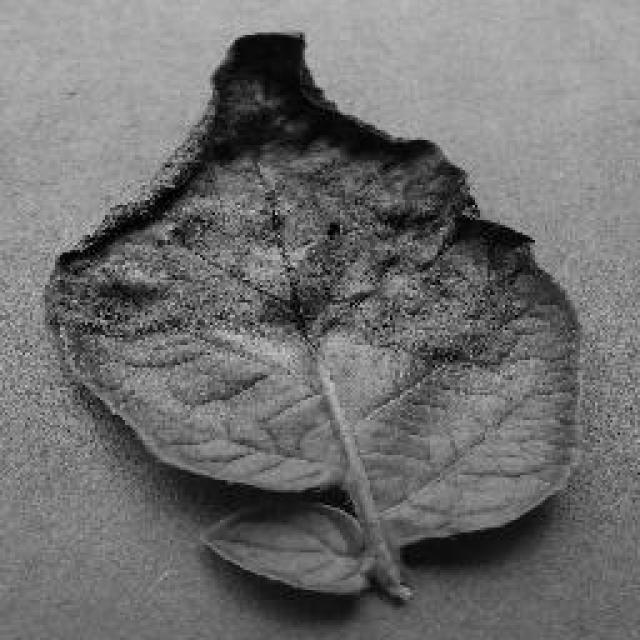Potato: (43, 28, 585, 602)
